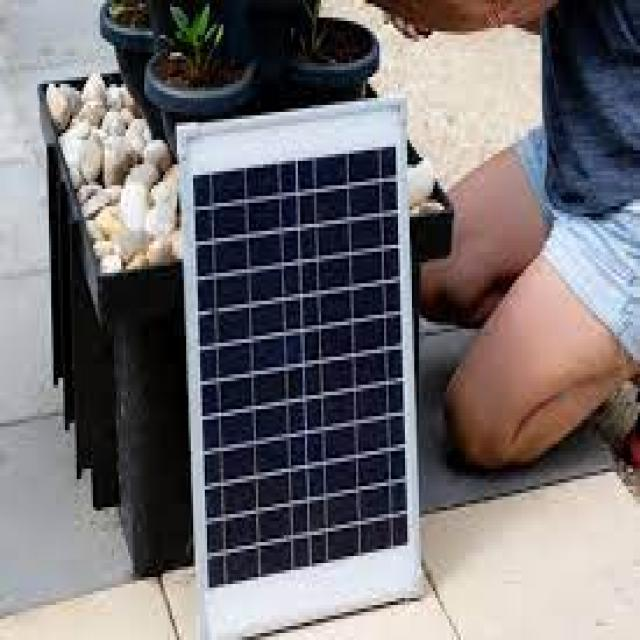no faulty: (199, 151, 411, 593)
